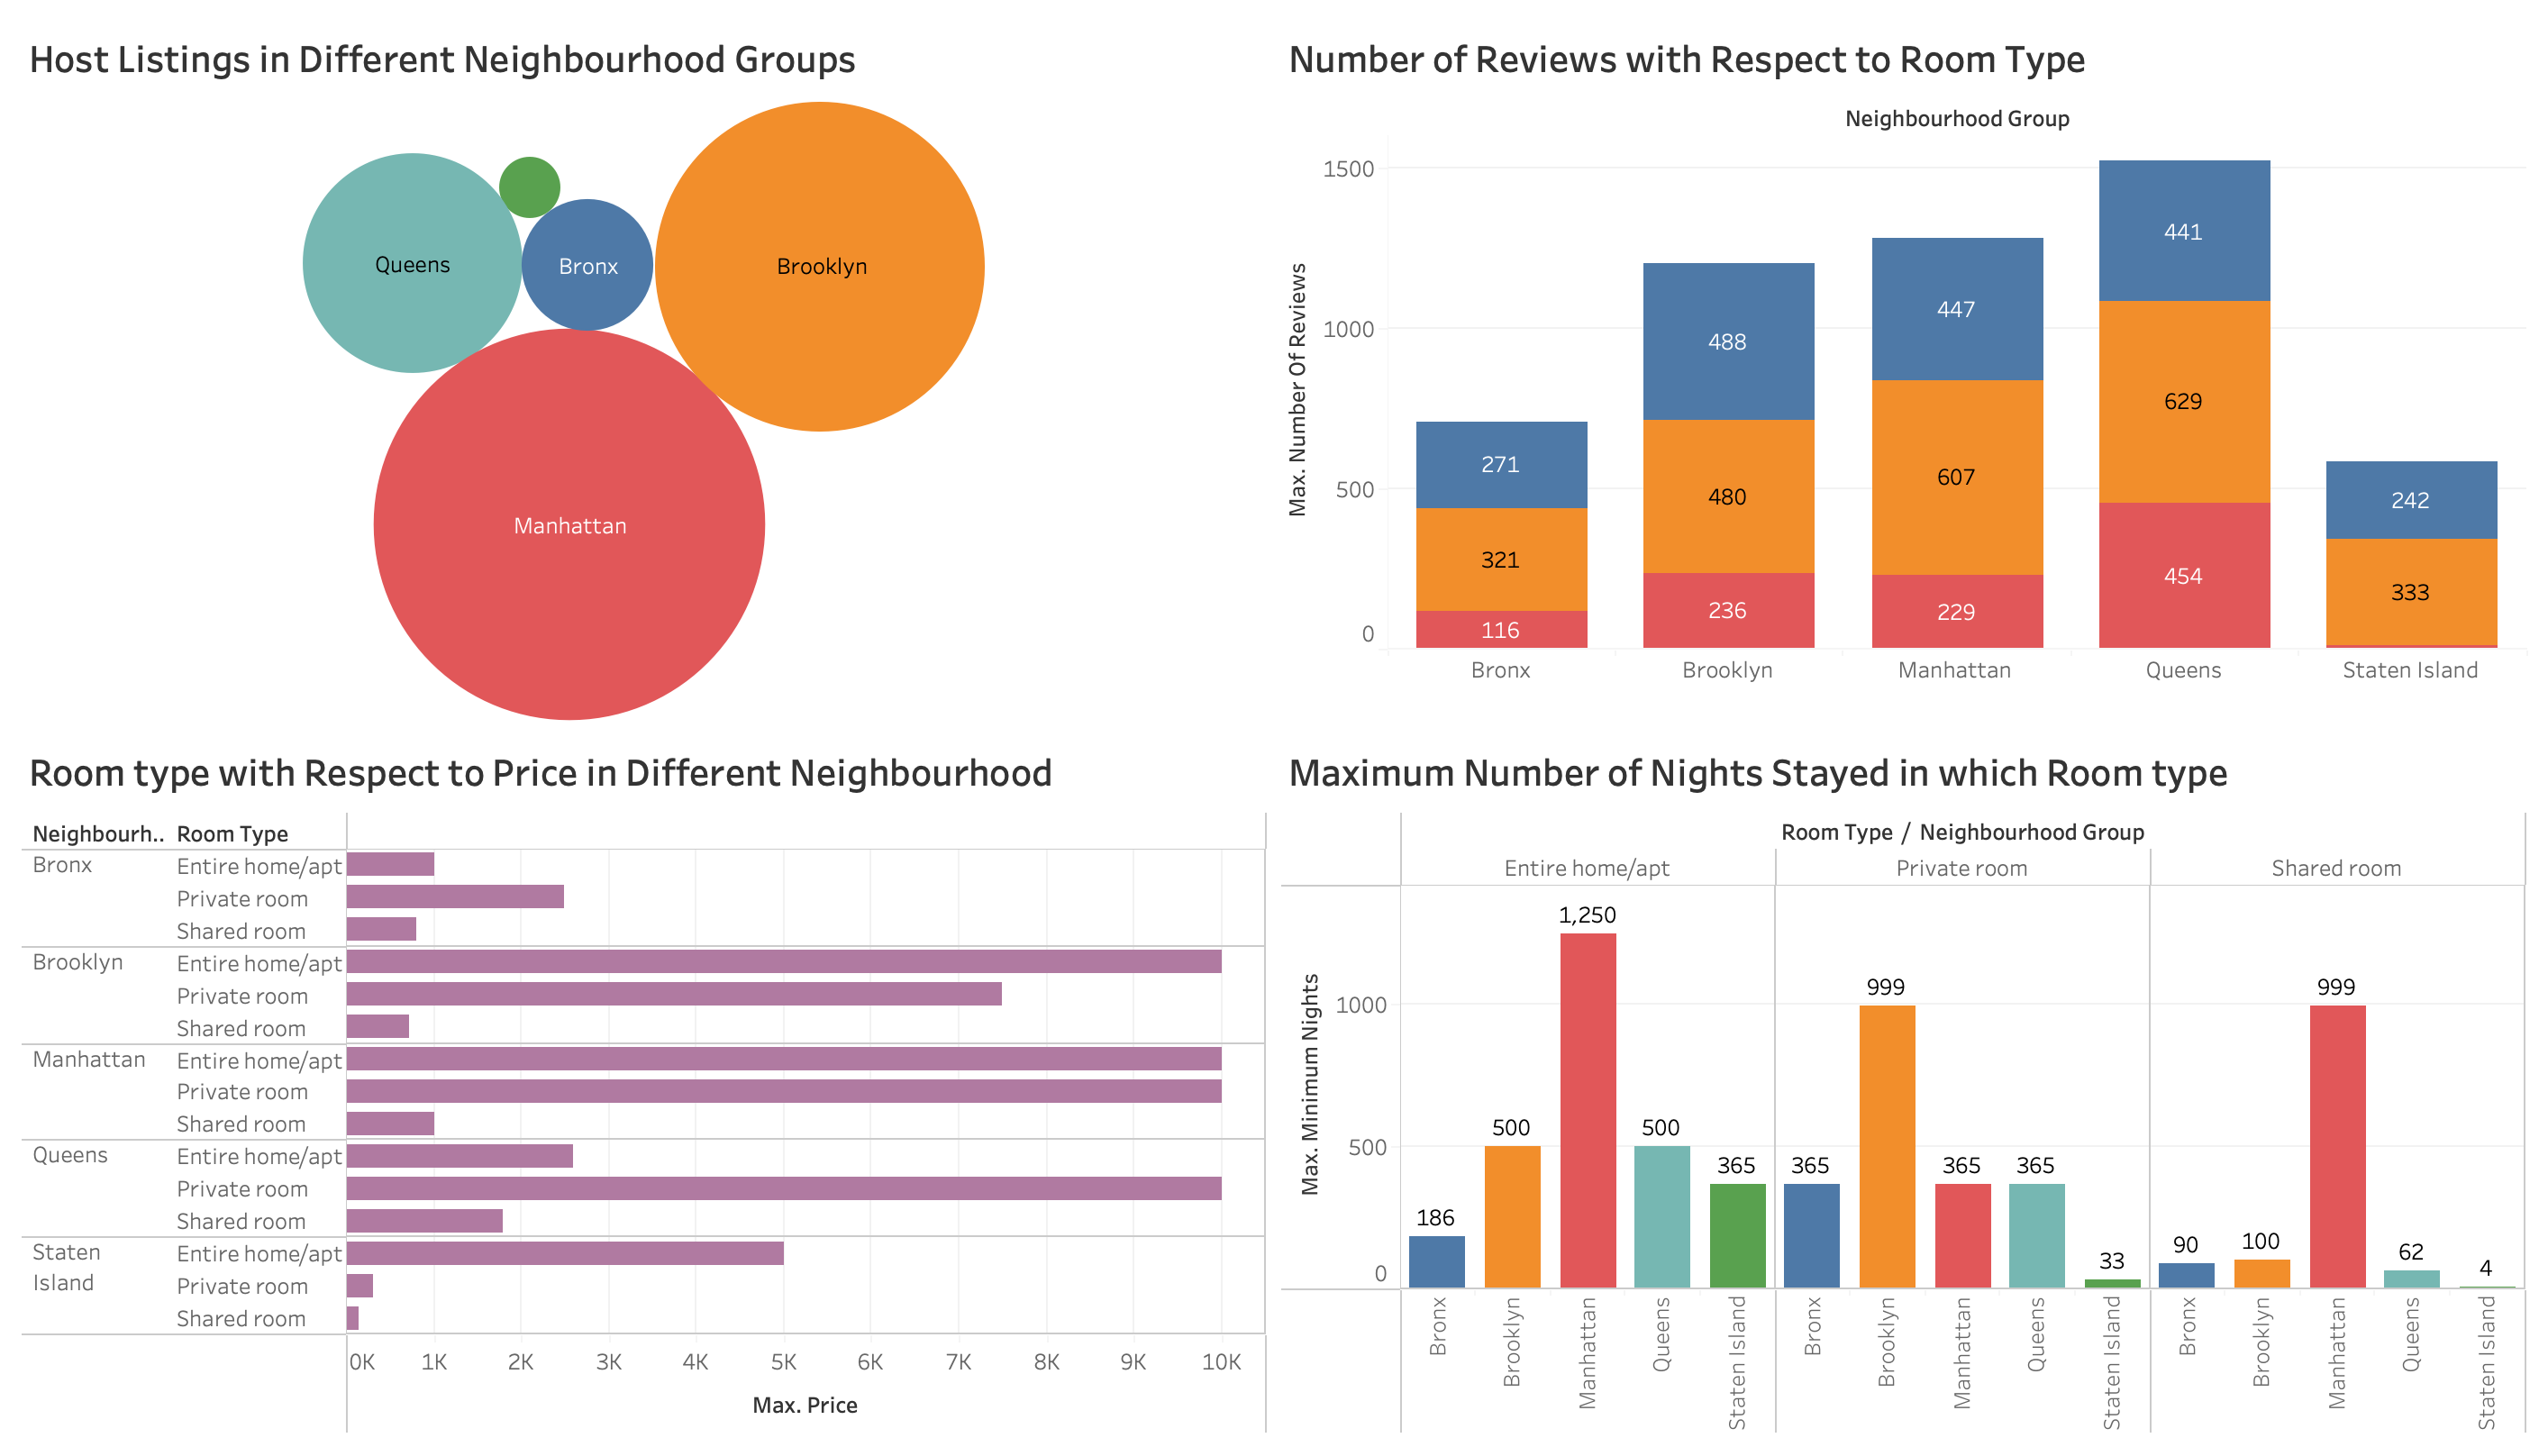

This screenshot's page, from the dashboard's own definition file:
{"tool":"tableau","page":{"name":"Dashboard 1","canvas":[1000,1000],"units":"permille","ordinal":0},"visuals":[{"type":"worksheet","title":"Sheet 1","mark":"Circle","box":[5.7,9.9,494.3,490.1]},{"type":"worksheet","title":"Sheet 2","mark":"Automatic","rows":["number_of_reviews"],"cols":["neighbourhood_group"],"box":[500,9.9,494.3,490.1]},{"type":"worksheet","title":"Sheet 3","mark":"Automatic","rows":["neighbourhood_group","room_type"],"cols":["price"],"box":[5.7,500,494.3,490.1]},{"type":"worksheet","title":"Sheet 4","mark":"Automatic","rows":["minimum_nights"],"cols":["room_type","neighbourhood_group"],"box":[500,500,494.3,490.1]}]}

Visuals, with their boxes on the dashboard's canvas, which has no fixed pixel size, in thousandths of its width and height (x1, y1, x2, y2). These are canvas units, not pixel positions in the 2548x1456 screenshot, which may show the page scaled, cropped or inside an application window:
"Sheet 1" worksheet (Circle marks): box(6, 10, 500, 500)
"Sheet 2" worksheet: box(500, 10, 994, 500)
"Sheet 3" worksheet: box(6, 500, 500, 990)
"Sheet 4" worksheet: box(500, 500, 994, 990)
